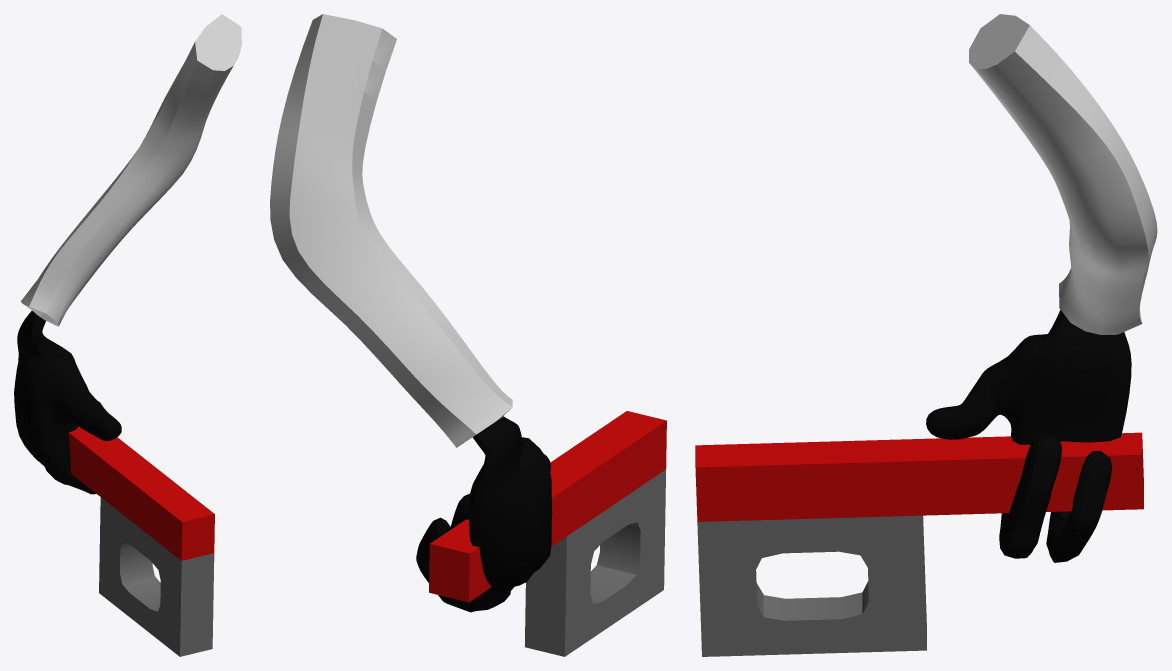
The model's file is Manochingona.fbx.
3 views of the same model, side by side, from view 1: azimuth 30°, elevation 25°; view 2: azimuth 150°, elevation 25°; view 3: azimuth 270°, elevation 25° (orthographic). The views are drawn at different scales.
Parts seen in each view (by area): view 1: Mesh; view 2: Mesh; view 3: Mesh.
Boxes of the visible parts, <box> form: Mesh: <box>14,14,241,656</box>; Mesh: <box>270,14,666,656</box>; Mesh: <box>695,14,1157,656</box>.
Bounding box in the file's own units: 20.65 × 50 × 29.15.
